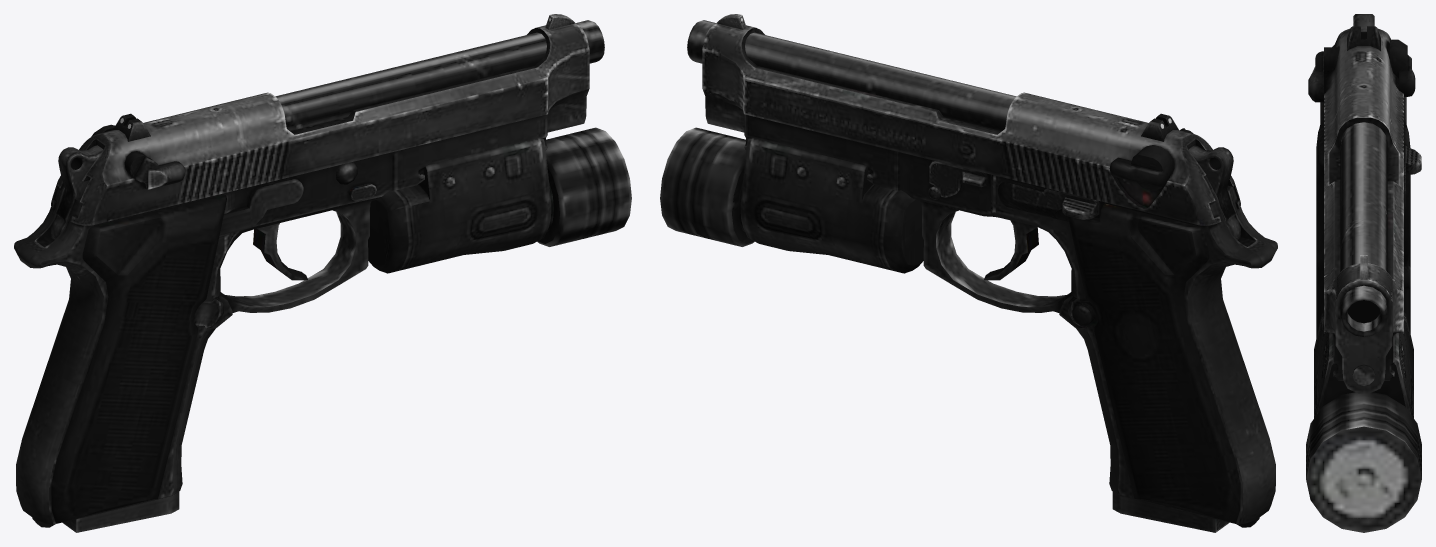
The model's file is 9mm gun.fbx.
3 renders of one model, left to right at view 1: azimuth 30°, elevation 25°; view 2: azimuth 150°, elevation 25°; view 3: azimuth 270°, elevation 25°, orthographic. The views are drawn at different scales.
Visible parts, largest first — view 1: 9mm_Trip; view 2: 9mm_Trip; view 3: 9mm_Trip.
Boxes of the visible parts, box(x1,y1,x2,y2) form: 9mm_Trip: box(14, 14, 631, 532); 9mm_Trip: box(660, 14, 1277, 532); 9mm_Trip: box(1306, 14, 1421, 532).
Bounding box in the file's own units: 10.51 × 6.71 × 1.63.
